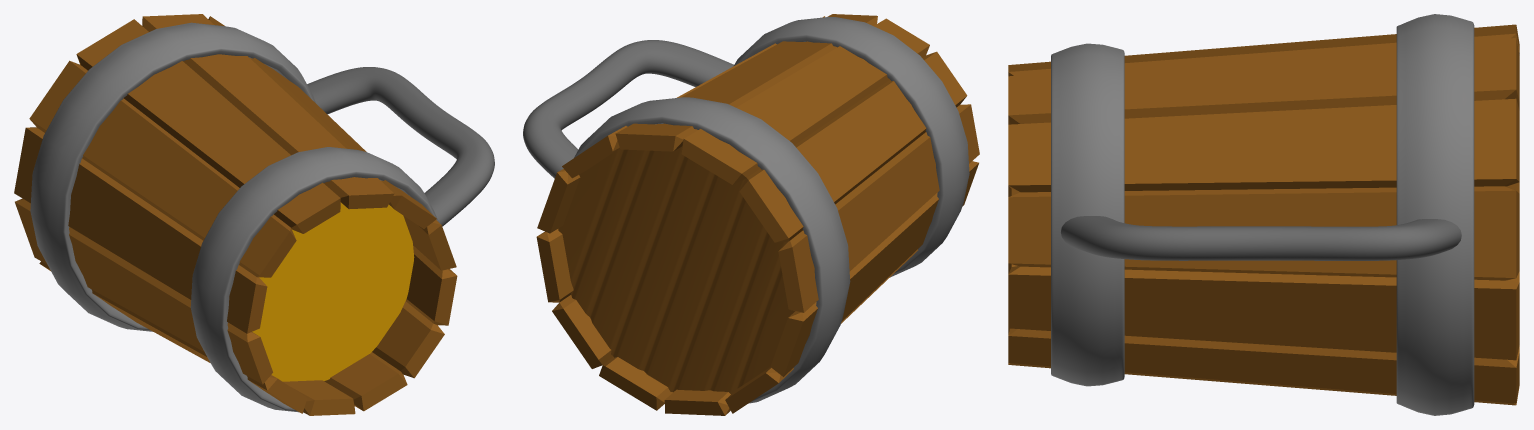
The model's file is Yellow Mug.glb.
3 views of the same model, side by side, from view 1: azimuth 30°, elevation 25°; view 2: azimuth 150°, elevation 25°; view 3: azimuth 270°, elevation 25° (orthographic). The views are drawn at different scales.
Parts seen in each view (by area): view 1: handle.005; view 2: handle.005; view 3: handle.005.
Boxes of the visible parts, x1,y1,x2,y2 form: handle.005: [14, 14, 494, 415]; handle.005: [523, 14, 979, 415]; handle.005: [1008, 14, 1519, 415].
Size of the model in its own units: 25.4 by 21.11 by 26.76.
